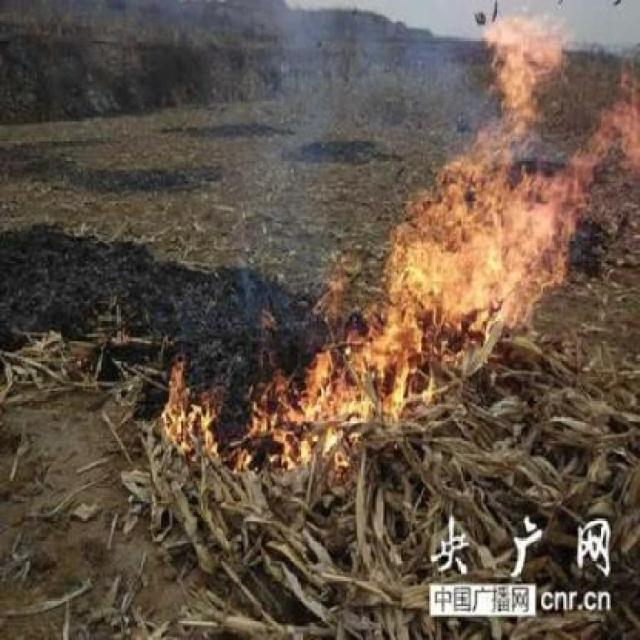Fire: (158, 11, 640, 472)
